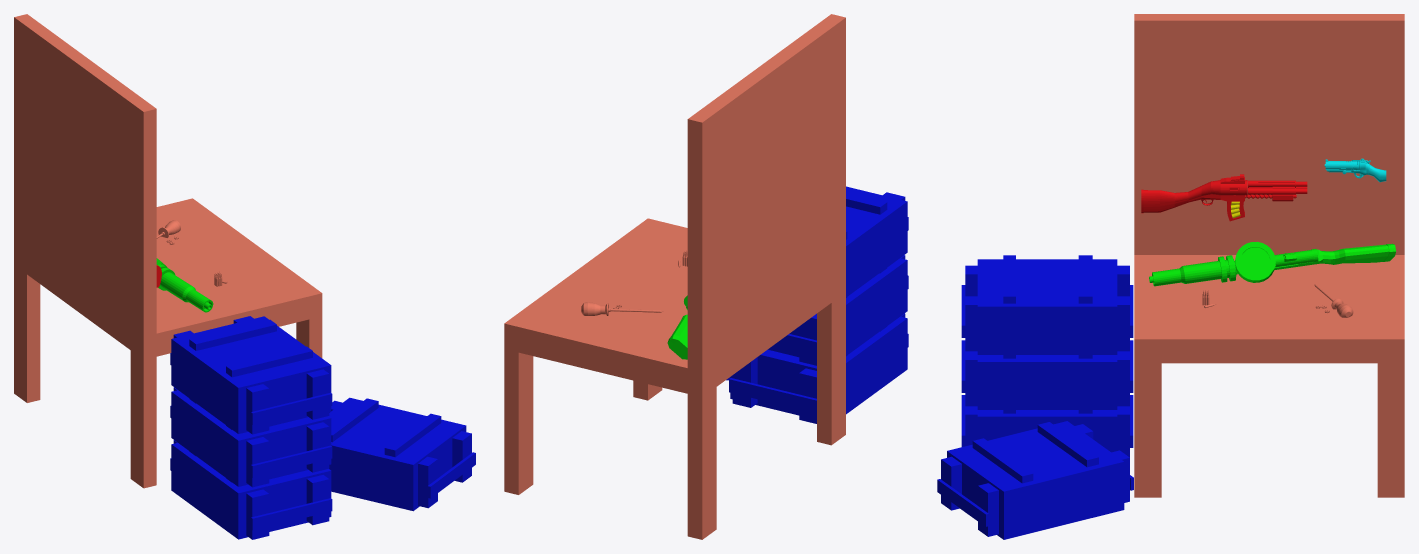
Rendered from Mesa_Mejoras1_Baja.fbx.
3 views of the same model, side by side, from view 1: azimuth 30°, elevation 25°; view 2: azimuth 150°, elevation 25°; view 3: azimuth 270°, elevation 25° (orthographic). The views are drawn at different scales.
Parts seen in each view (by area): view 1: mesa_Baja, Caja_Municion_Baja.002, Caja_Municion_Baja.004, Caja_Municion_Baja.001, Caja_Municion_Baja.003, Ametralladora; view 2: mesa_Baja, Caja_Municion_Baja.003, Caja_Municion_Baja.002, Caja_Municion_Baja.001, Ametralladora; view 3: mesa_Baja, Caja_Municion_Baja.004, Caja_Municion_Baja.002, Caja_Municion_Baja.001, Ametralladora, Caja_Municion_Baja.003, Escopeta, Revolver.
Boxes of the visible parts, x1,y1,x2,y2 form: mesa_Baja: (14,14,322,488); Caja_Municion_Baja.002: (170,316,332,434); Caja_Municion_Baja.004: (329,397,475,511); Caja_Municion_Baja.001: (170,387,332,487); Caja_Municion_Baja.003: (170,440,332,539); Ametralladora: (156,258,213,312); mesa_Baja: (504,14,845,539); Caja_Municion_Baja.003: (729,313,908,423); Caja_Municion_Baja.002: (846,186,908,297); Caja_Municion_Baja.001: (768,255,908,365); Ametralladora: (667,295,687,359); mesa_Baja: (1134,14,1404,497); Caja_Municion_Baja.004: (937,421,1133,539); Caja_Municion_Baja.002: (961,255,1133,354); Caja_Municion_Baja.001: (961,340,1133,409); Ametralladora: (1149,241,1396,286); Caja_Municion_Baja.003: (961,395,1133,457); Escopeta: (1141,174,1307,221); Revolver: (1324,158,1386,182).
Bounding box in the file's own units: 553 × 764 × 822.
